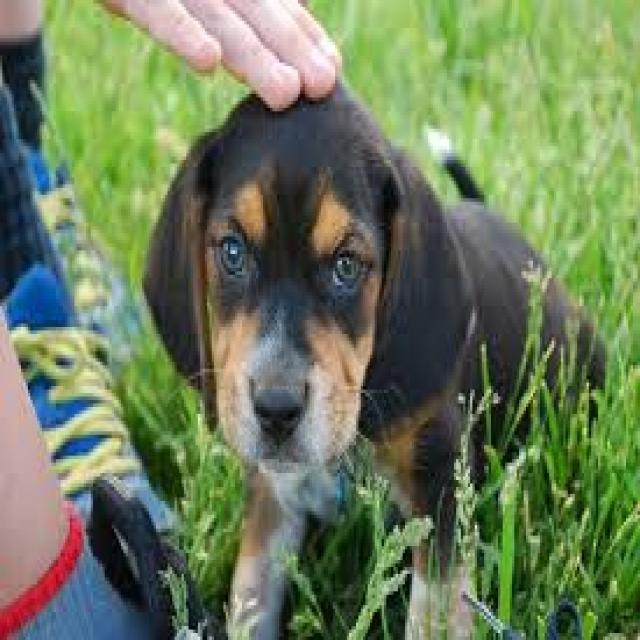Dog: (141, 65, 614, 640)
